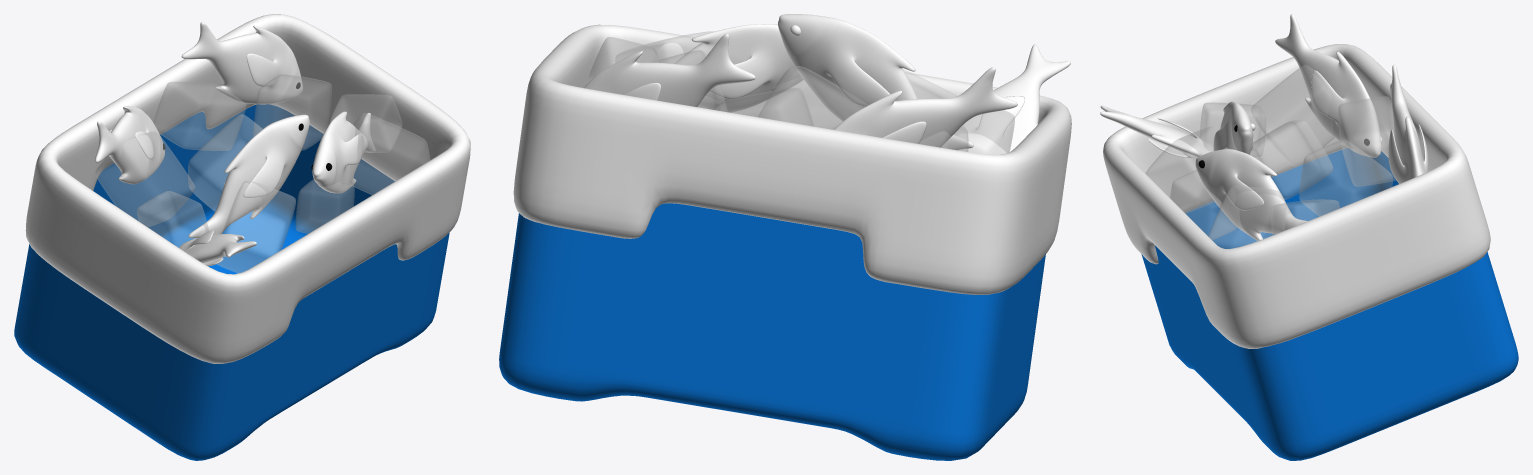
The picture shows the model from 3 angles, left to right: view 1: azimuth 30°, elevation 25°; view 2: azimuth 150°, elevation 25°; view 3: azimuth 270°, elevation 25°; orthographic projection. The views are drawn at different scales.
Visible parts, largest first — view 1: Cube.127, Cube.126, Cube.138, Cube.137, Cube.130, Cube.133, Cube.129, Cube.131, Cube.132, Cube.139, Cube.140, Cube.128 (+4 smaller); view 2: Cube.126, Cube.127, Cube.137, Cube.139, Cube.140, Cube.138, Cube.141, Cube.128, Cube.133, Cube.135, Cube.136, Cube.131 (+4 smaller); view 3: Cube.127, Cube.126, Cube.139, Cube.140, Cube.130, Cube.132, Cube.133, Cube.128, Cube.131, Cube.129, Cube.138, Cube.134 (+4 smaller).
Part boxes in pixels (x1=…): Cube.127: x1=25, y1=14, x2=470, y2=363; Cube.126: x1=14, y1=104, x2=449, y2=460; Cube.138: x1=181, y1=22, x2=302, y2=104; Cube.137: x1=188, y1=114, x2=309, y2=238; Cube.130: x1=95, y1=131, x2=194, y2=226; Cube.133: x1=153, y1=82, x2=245, y2=150; Cube.129: x1=217, y1=181, x2=295, y2=272; Cube.131: x1=350, y1=113, x2=429, y2=194; Cube.132: x1=253, y1=74, x2=331, y2=150; Cube.139: x1=95, y1=106, x2=164, y2=184; Cube.140: x1=312, y1=111, x2=375, y2=193; Cube.128: x1=188, y1=114, x2=262, y2=211; Cube.126: x1=499, y1=203, x2=1045, y2=460; Cube.127: x1=513, y1=24, x2=1071, y2=294; Cube.137: x1=778, y1=14, x2=973, y2=149; Cube.139: x1=833, y1=67, x2=1017, y2=147; Cube.140: x1=674, y1=24, x2=803, y2=112; Cube.138: x1=584, y1=34, x2=755, y2=106; Cube.141: x1=954, y1=44, x2=1070, y2=154; Cube.128: x1=758, y1=66, x2=867, y2=129; Cube.133: x1=713, y1=88, x2=813, y2=126; Cube.135: x1=941, y1=110, x2=1014, y2=154; Cube.136: x1=589, y1=37, x2=658, y2=81; Cube.131: x1=615, y1=31, x2=713, y2=107; Cube.127: x1=1103, y1=44, x2=1490, y2=348; Cube.126: x1=1141, y1=148, x2=1518, y2=460; Cube.139: x1=1275, y1=14, x2=1381, y2=157; Cube.140: x1=1195, y1=149, x2=1307, y2=240; Cube.130: x1=1251, y1=65, x2=1334, y2=166; Cube.132: x1=1299, y1=140, x2=1392, y2=215; Cube.133: x1=1338, y1=96, x2=1395, y2=186; Cube.128: x1=1250, y1=120, x2=1332, y2=199; Cube.131: x1=1208, y1=186, x2=1285, y2=248; Cube.129: x1=1146, y1=126, x2=1218, y2=212; Cube.138: x1=1388, y1=64, x2=1428, y2=183; Cube.134: x1=1170, y1=170, x2=1236, y2=239.
Bounding box in the file's own units: 5.75 × 4.85 × 5.4.
